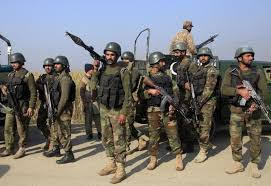gun: (135, 74, 194, 125), (224, 65, 271, 121), (187, 19, 222, 56), (43, 70, 61, 128), (2, 87, 25, 126)
uniform: (86, 48, 136, 169), (138, 60, 191, 166), (227, 53, 269, 173), (183, 47, 225, 159), (3, 52, 39, 162), (55, 68, 76, 163)
